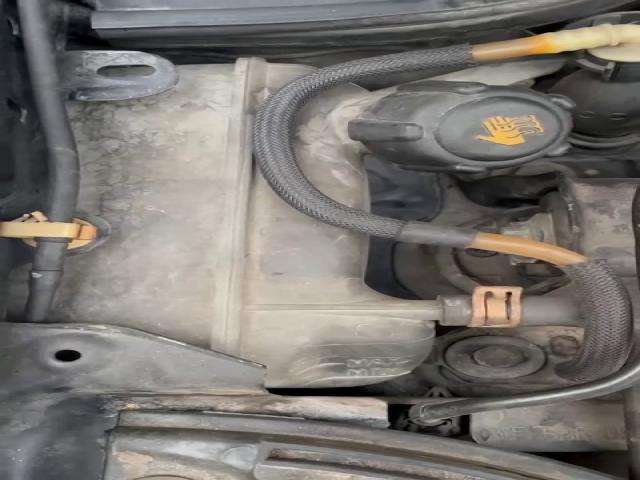antifreeze_tank: (60, 59, 442, 386), (294, 82, 572, 210)
